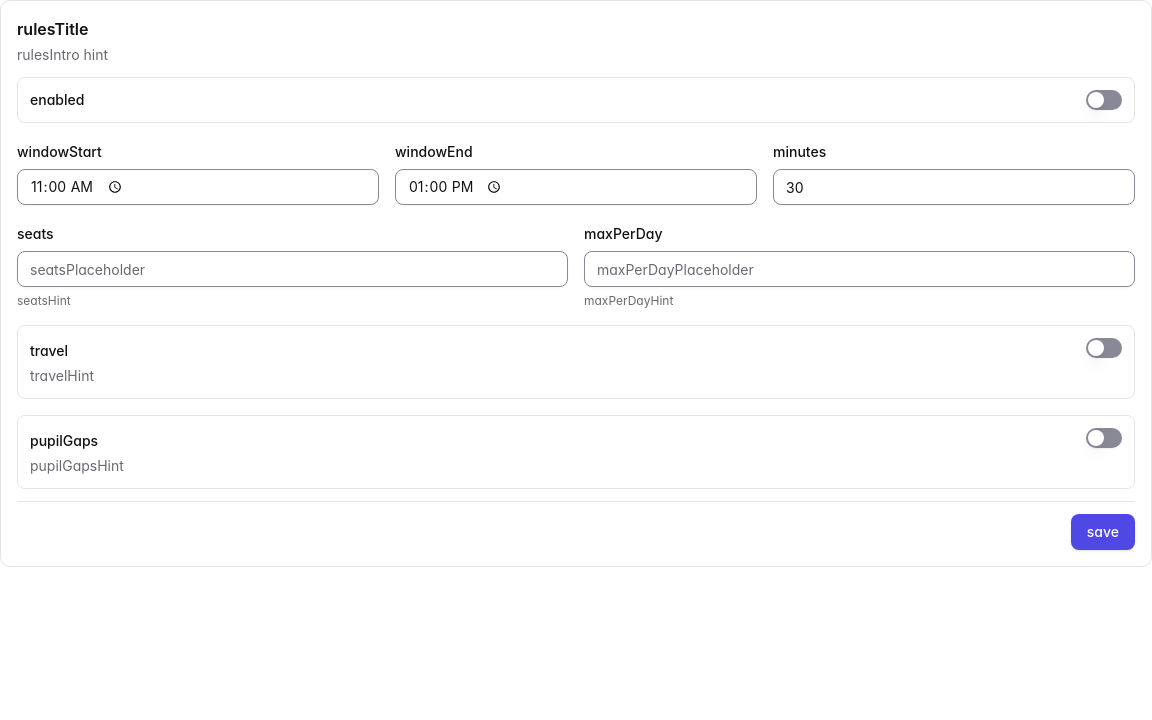
Test: LunchSettingsCard › says beside the form that a save failed, and what still applies
Expected: the time field labelled "windowStart" holds "11:00", [17,169,379,205]
Click the button "save": click(1103, 532) [1071,514,1135,550]
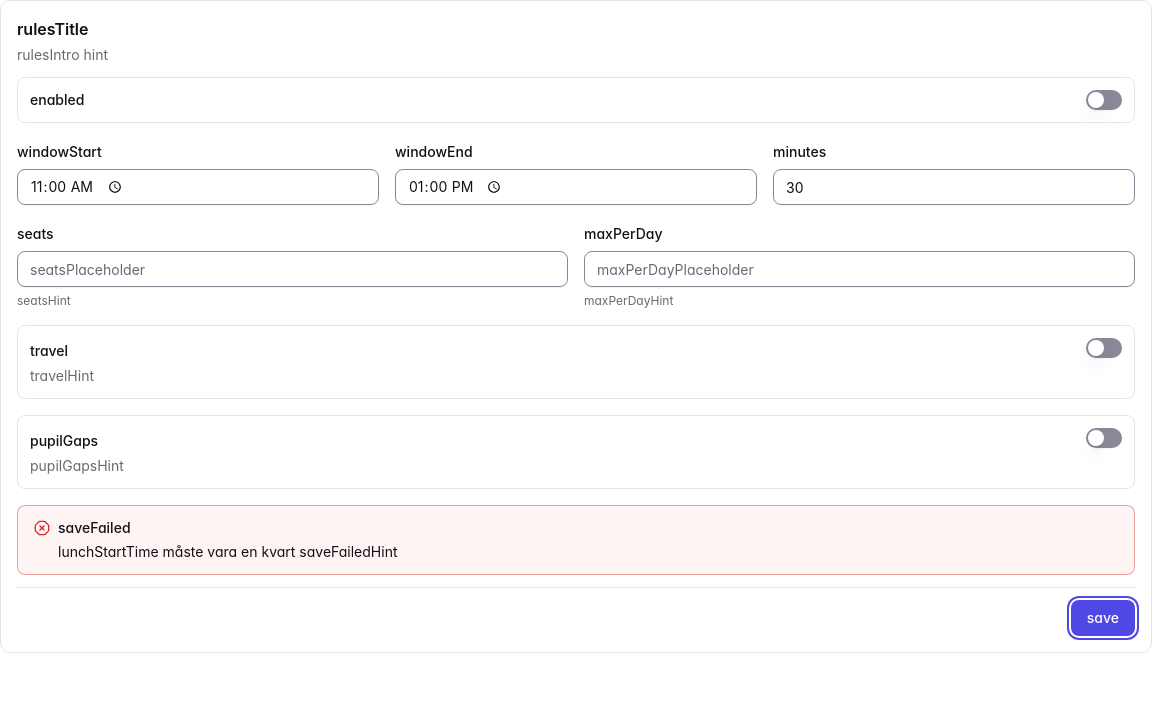
Result: the message shows "saveFailed" at [58,519,130,536]
Result: the message shows "lunchStartTime måste vara en kvart" at [58,543,295,560]
Result: the message shows "saveFailedHint" at [299,543,398,560]
